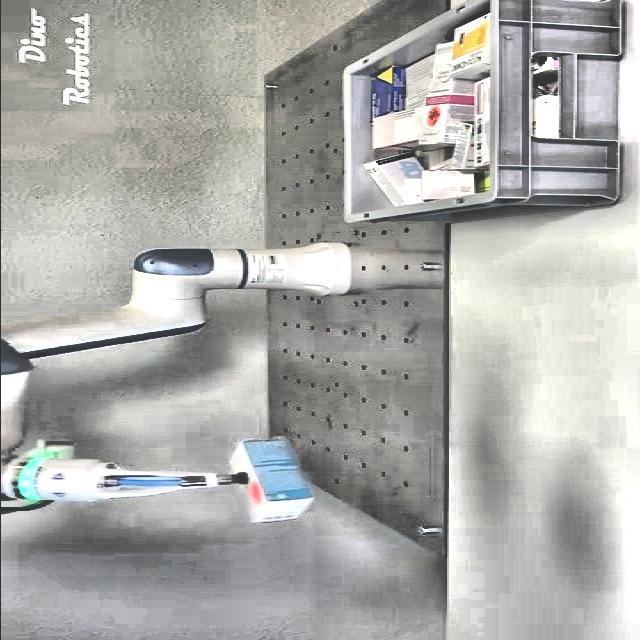robot: (0, 241, 352, 523)
